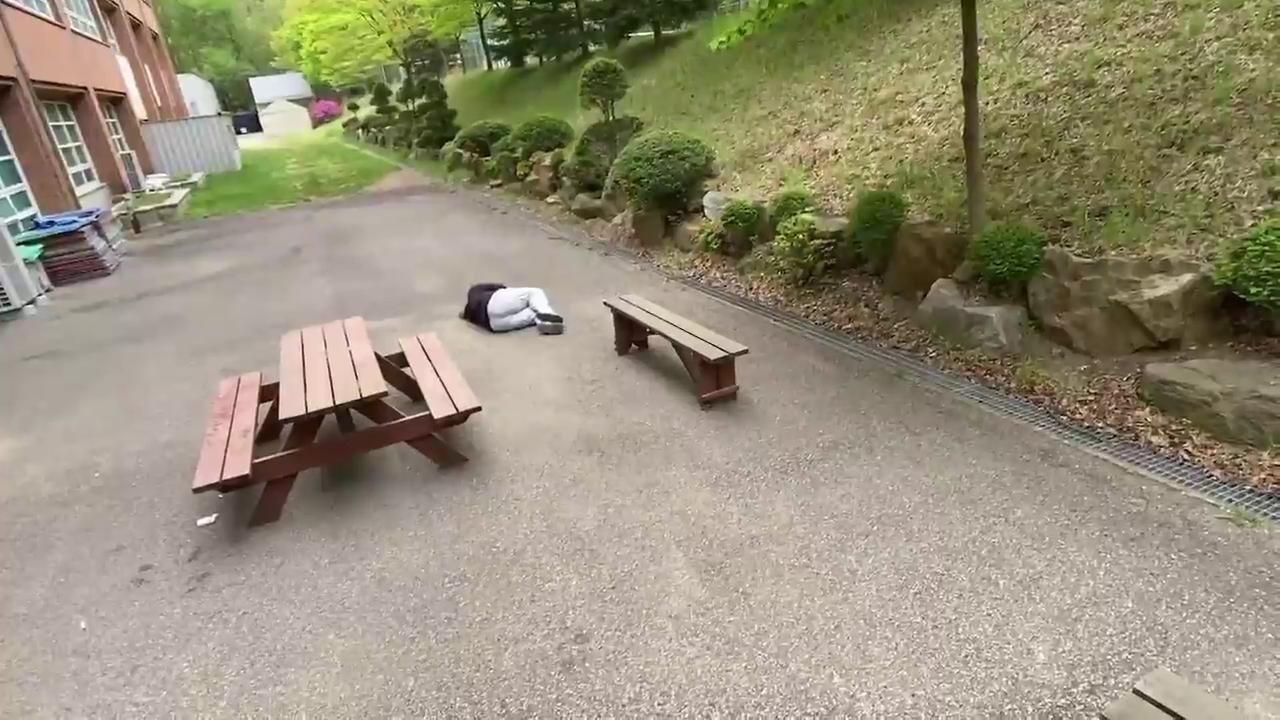faint: (460, 282, 565, 338)
